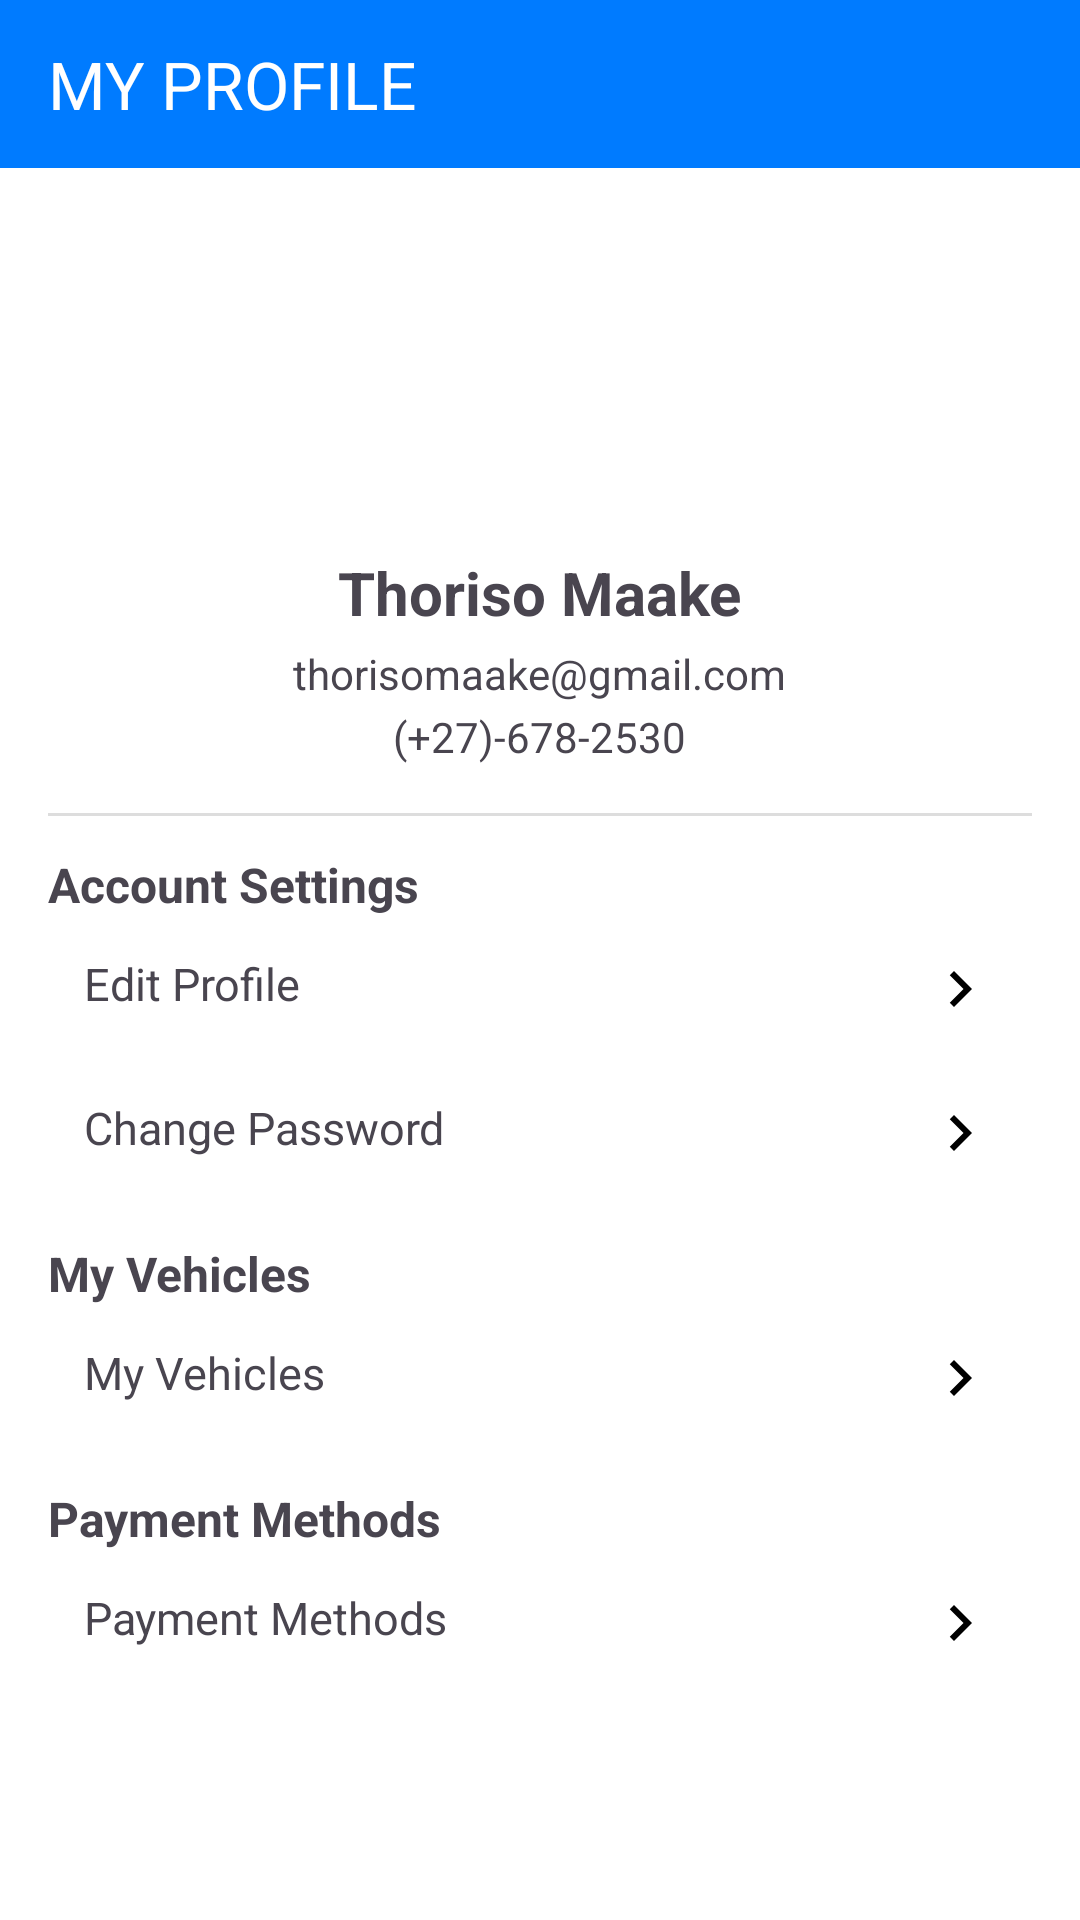

Icon bounding boxes for this 1080*1920 phone screenshot, format (x1, y1, x2, y2):
arrow right: (950, 971, 972, 1007), (950, 1115, 972, 1151), (950, 1360, 972, 1396), (950, 1605, 972, 1641)
